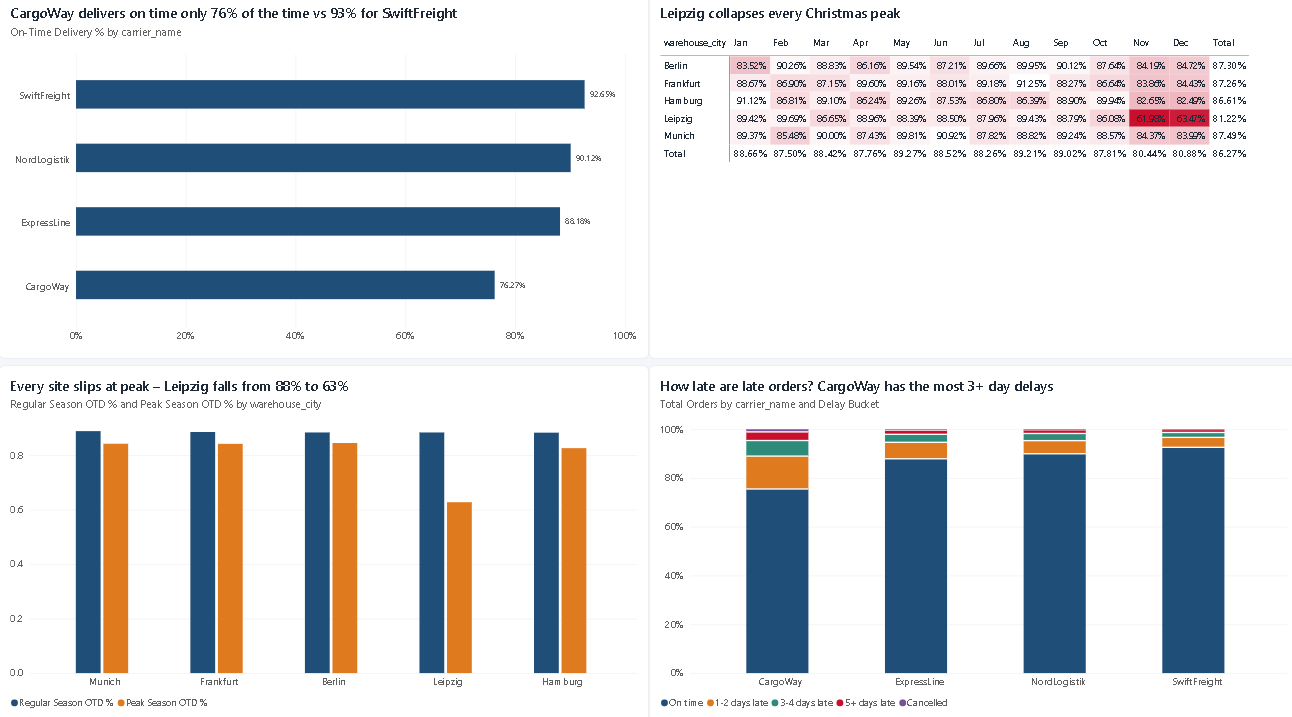

What the dashboard file says about the page in this screenshot:
{"tool":"powerbi","page":{"name":"Delivery","canvas":[1920,1080],"ordinal":1},"visuals":[{"type":"clusteredBarChart","title":"   CargoWay delivers on time only 76% of the time vs 93% for SwiftFreight","fields":{"Category":["Carriers.carrier_name"],"Y":["_Measures.On-Time Delivery %"]},"box":[0,0,960,540],"z":0},{"type":"pivotTable","title":"   Leipzig collapses every Christmas peak","fields":{"Columns":["Date.Month"],"Rows":["Warehouses.warehouse_city"],"Values":["_Measures.On-Time Delivery %"]},"box":[960,0,960,540],"z":1},{"type":"clusteredColumnChart","title":"   Every site slips at peak – Leipzig falls from 88% to 63%","fields":{"Category":["Warehouses.warehouse_city"],"Y":["_Measures.Regular Season OTD %","_Measures.Peak Season OTD %"]},"box":[0,550,960,530],"z":2},{"type":"hundredPercentStackedColumnChart","title":"   How late are late orders? CargoWay has the most 3+ day delays","fields":{"Category":["Carriers.carrier_name"],"Series":["Orders.Delay Bucket"],"Y":["_Measures.Total Orders"]},"box":[960,550,960,530],"z":3}]}

Visuals, with their boxes in screenshot pixels (x1, y1, x2, y2), scaled from the page's 1920x1080 canvas onto the 1292x717 screenshot:
"   CargoWay delivers on time only 76% of the time vs 93% for SwiftFreight" clusteredBarChart: rect(0, 0, 646, 358)
"   Leipzig collapses every Christmas peak" pivotTable: rect(646, 0, 1291, 358)
"   Every site slips at peak – Leipzig falls from 88% to 63%" clusteredColumnChart: rect(0, 365, 646, 716)
"   How late are late orders? CargoWay has the most 3+ day delays" hundredPercentStackedColumnChart: rect(646, 365, 1291, 716)
